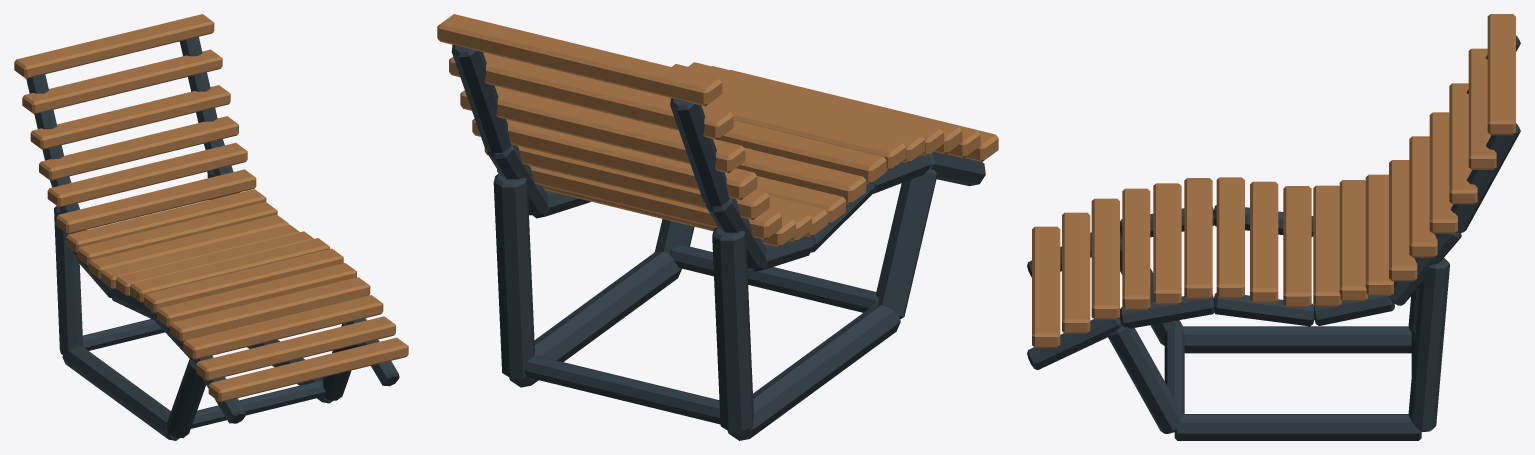
Rendered from b01_timber_chaise_public_seat.glb.
3 views of the same model, side by side, from view 1: azimuth 30°, elevation 25°; view 2: azimuth 150°, elevation 25°; view 3: azimuth 270°, elevation 25° (orthographic). The views are drawn at different scales.
Visible parts, largest first — view 1: b01_timber_chaise_public_seat; view 2: b01_timber_chaise_public_seat; view 3: b01_timber_chaise_public_seat.
Boxes of the visible parts, x1=… form: b01_timber_chaise_public_seat: x1=14, y1=14, x2=408, y2=440; b01_timber_chaise_public_seat: x1=437, y1=14, x2=998, y2=440; b01_timber_chaise_public_seat: x1=1027, y1=14, x2=1520, y2=440.
Bounding box in the file's own units: 0.72 × 1.01 × 1.38.
